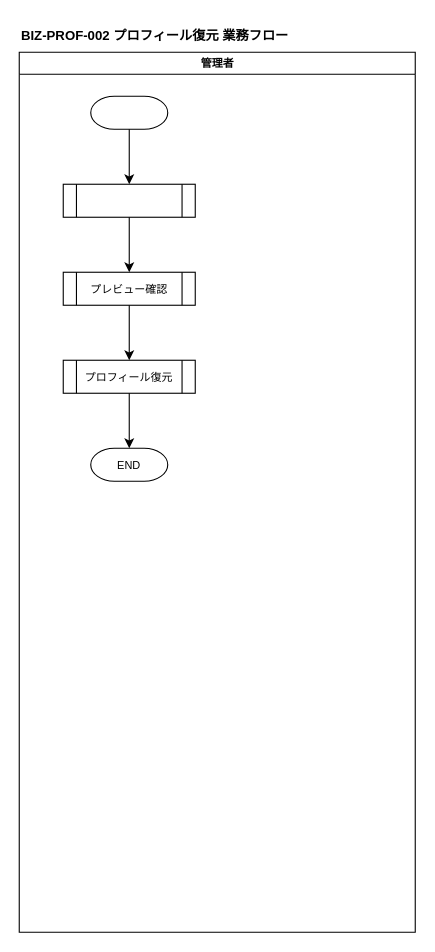
Image size: 435x952. Some labels were removed from this diagram. Here are the shapes that lost their labels. From the top down, the box of each, then its label:
(90, 95, 168, 129): START
(62, 183, 195, 217): プロフィール 更新履歴選択
